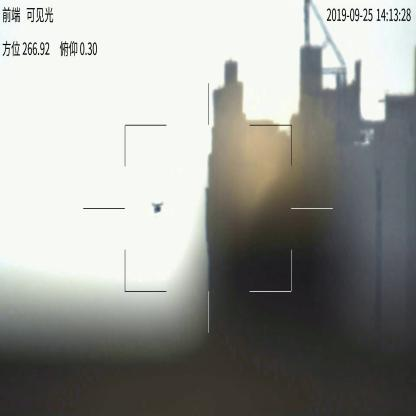uav: (150, 201, 164, 215)
